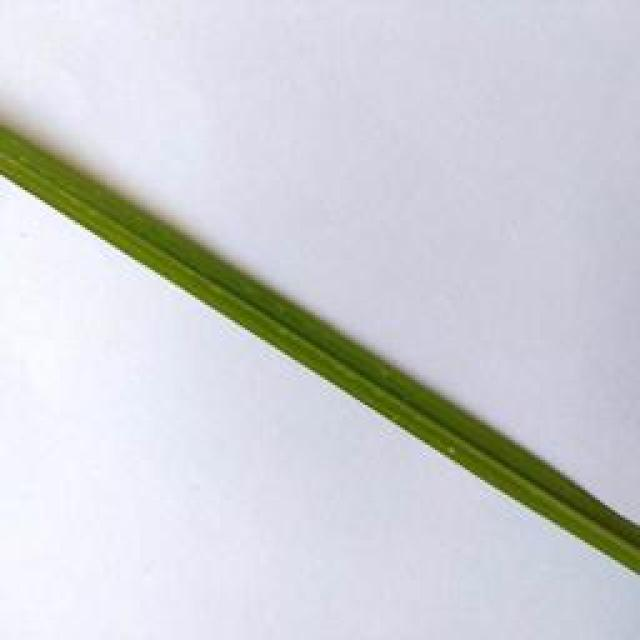Healthy-Plant: (0, 122, 640, 575)
